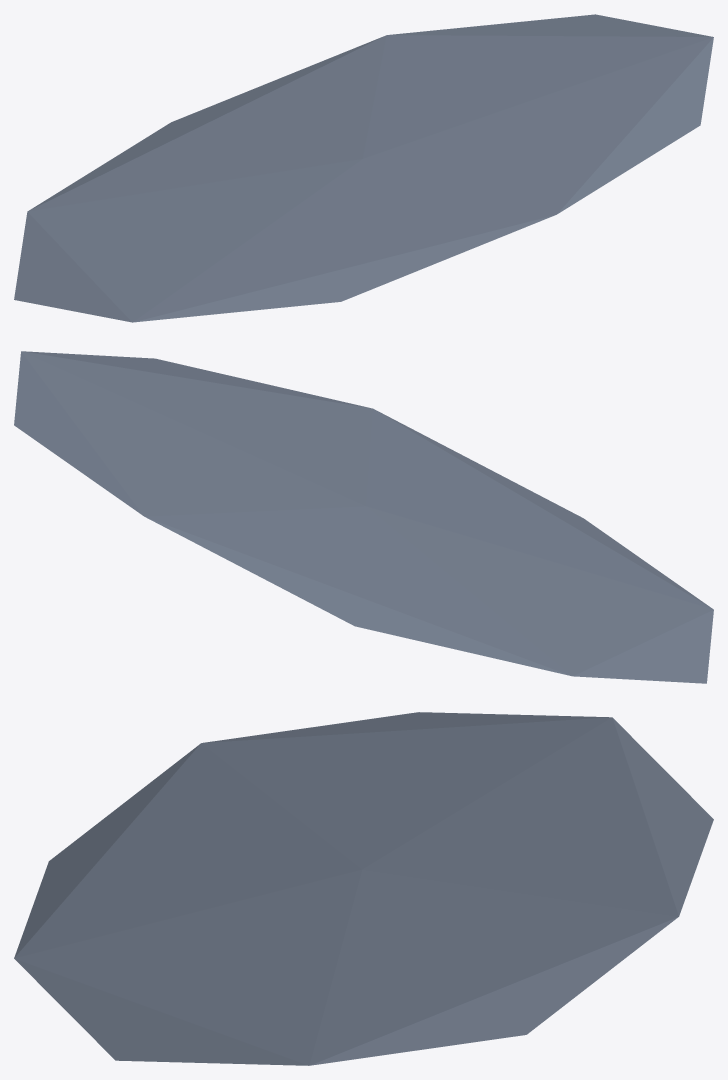
Rendered from EXTG_SouthRoad_11.glb.
3 renders of one model, top to bottom at view 1: azimuth 30°, elevation 25°; view 2: azimuth 150°, elevation 25°; view 3: azimuth 270°, elevation 25°, orthographic. The views are drawn at different scales.
Visible parts, largest first — view 1: EXTG_SouthRoad_11; view 2: EXTG_SouthRoad_11; view 3: EXTG_SouthRoad_11.
Part boxes in pixels (x1=…): EXTG_SouthRoad_11: x1=14, y1=14, x2=713, y2=322; EXTG_SouthRoad_11: x1=14, y1=351, x2=713, y2=683; EXTG_SouthRoad_11: x1=14, y1=712, x2=713, y2=1065.
Bounding box in the file's own units: 2.32 × 0.4069 × 1.21.
